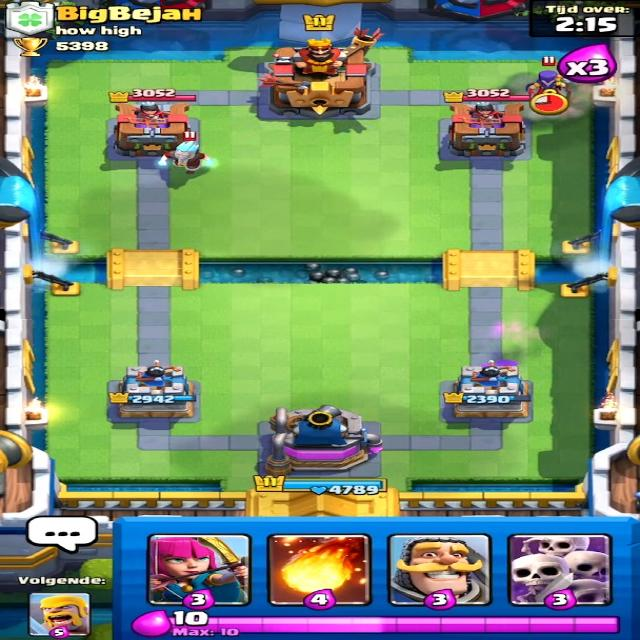Enemy_Ice_Wizard_Troop: (157, 137, 214, 183)
Fireball_Card: (273, 536, 367, 605)
